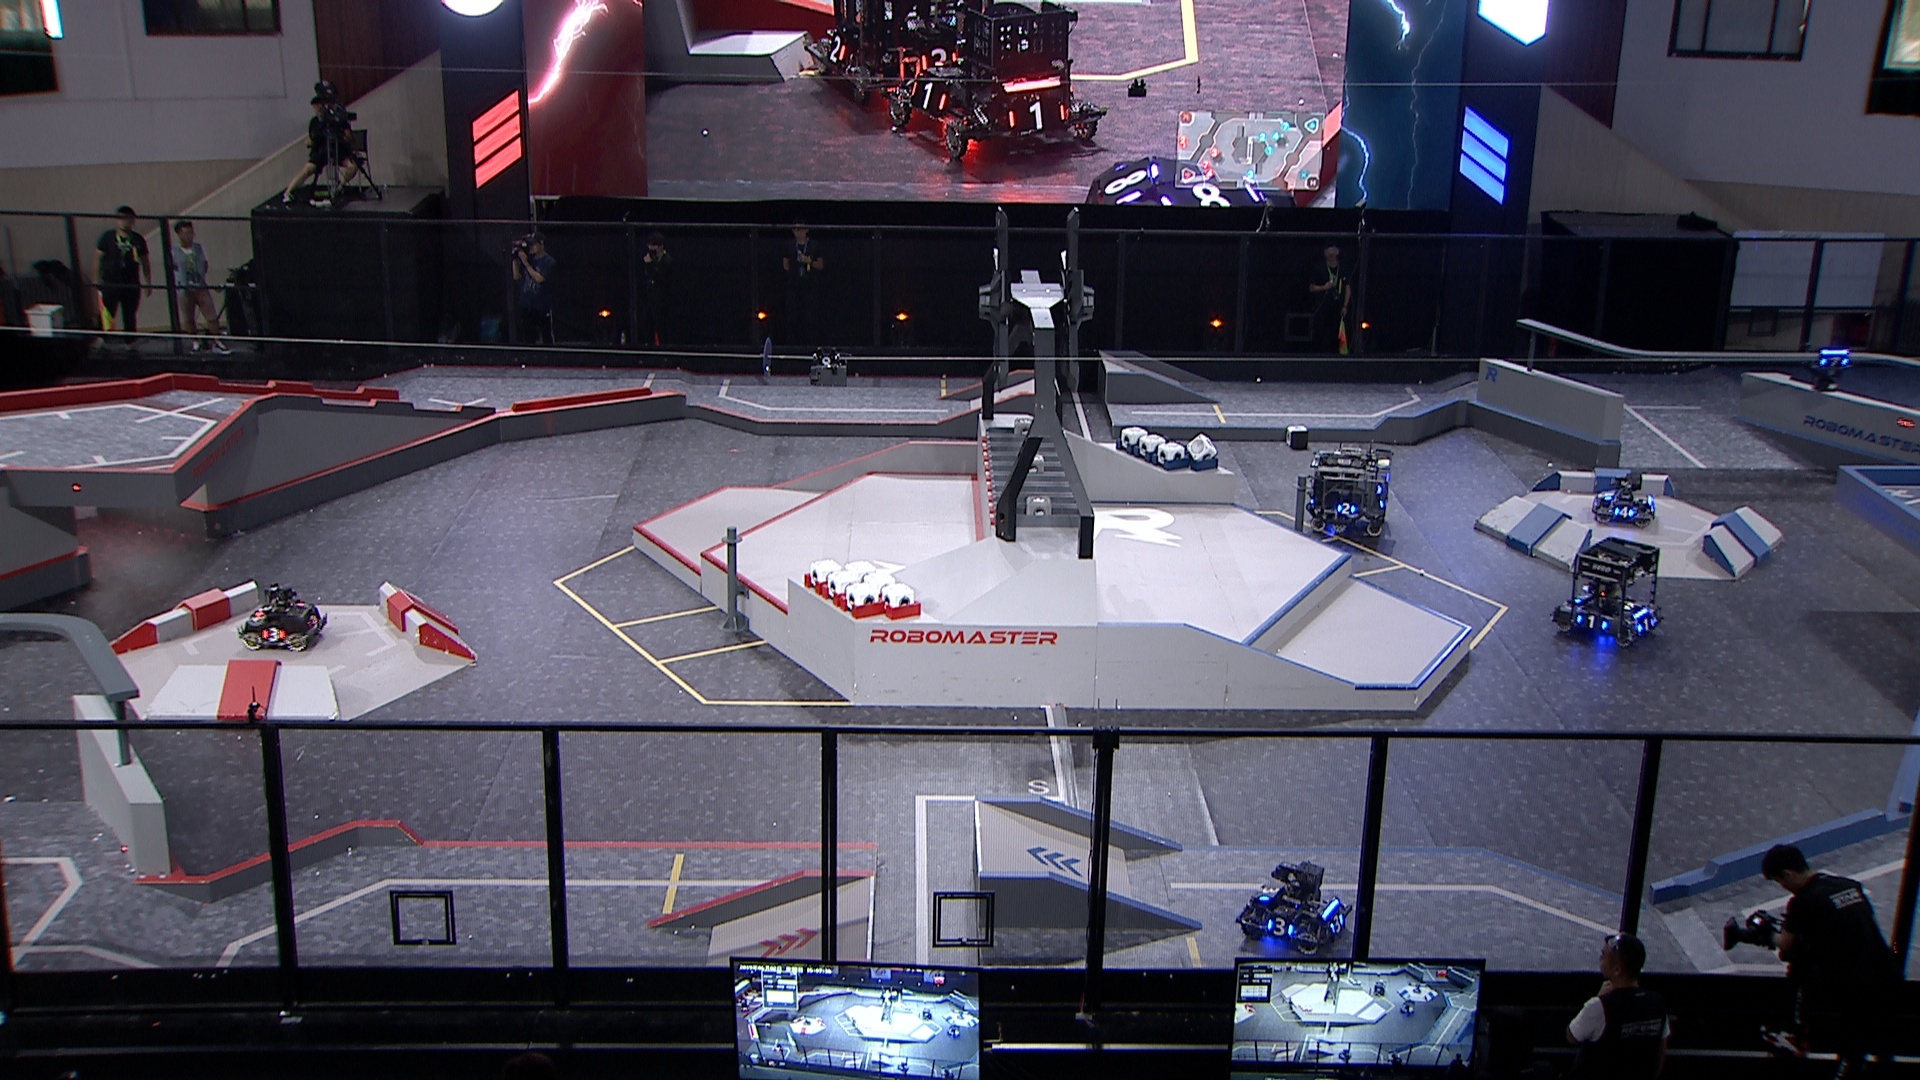armor: (1263, 916, 1295, 939), (1575, 612, 1609, 632), (258, 624, 286, 642), (1818, 353, 1849, 368), (1257, 884, 1278, 903), (1328, 913, 1346, 935), (1333, 500, 1357, 514), (1636, 615, 1655, 633), (1613, 504, 1634, 520), (305, 612, 320, 632), (253, 603, 273, 617)
car: (1552, 535, 1662, 651), (1233, 858, 1356, 957), (1302, 444, 1394, 538), (235, 584, 328, 651), (1592, 469, 1656, 527)
ignore: (880, 0, 1110, 160), (802, 1, 993, 104), (1084, 157, 1296, 208)
watcher: (1804, 343, 1850, 392)
